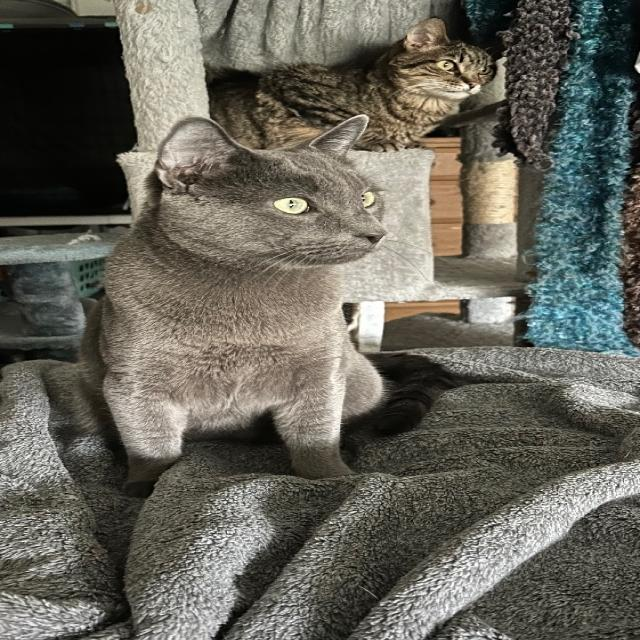domestic_short_hair_cat: (372, 12, 512, 109)
russian_blue_cat: (115, 108, 410, 282)
